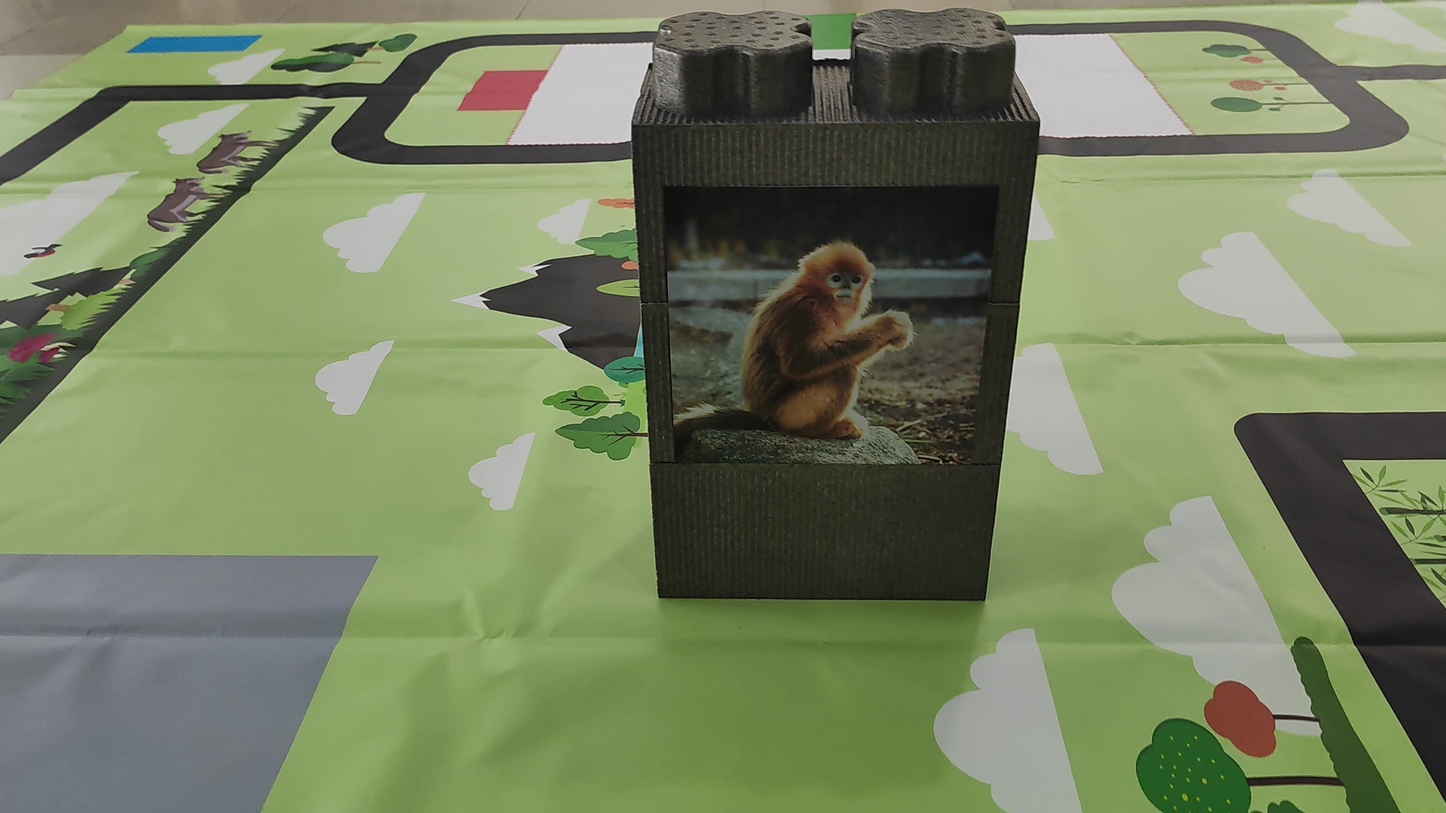monkey: (718, 222, 936, 445)
